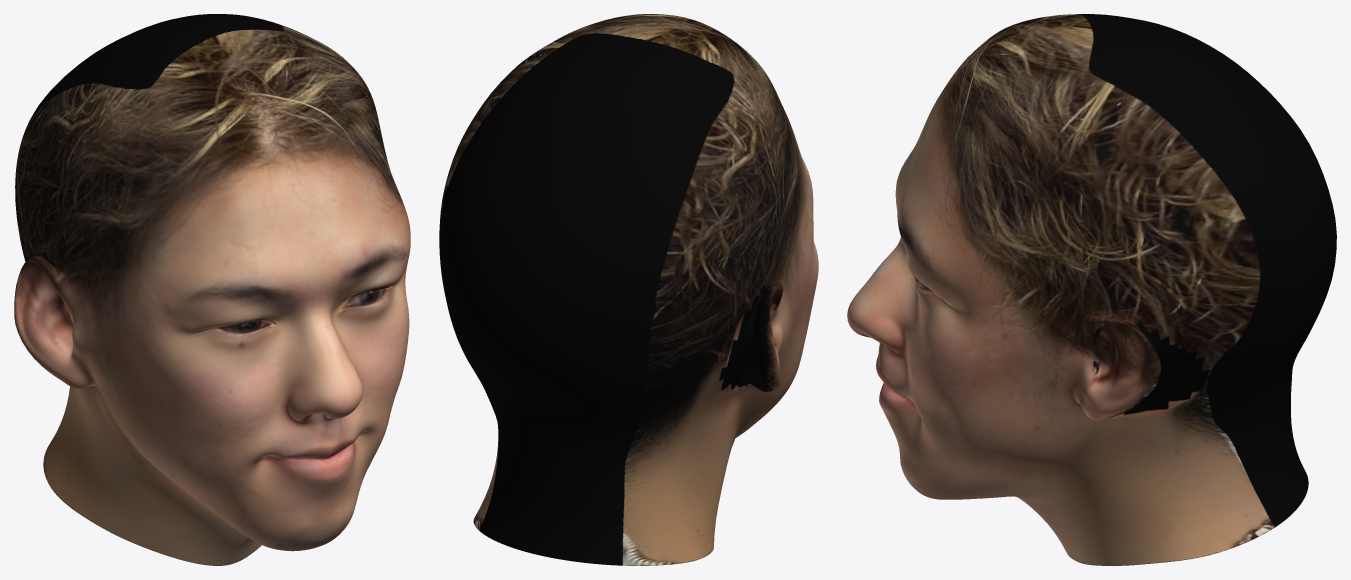
3 views of the same model, side by side, from view 1: azimuth 30°, elevation 25°; view 2: azimuth 150°, elevation 25°; view 3: azimuth 270°, elevation 25° (orthographic). The views are drawn at different scales.
Visible parts, largest first — view 1: FaceBuilderHead; view 2: FaceBuilderHead; view 3: FaceBuilderHead.
Part boxes in pixels (x1,y1,x2,y2): FaceBuilderHead: [14, 14, 410, 565]; FaceBuilderHead: [439, 14, 818, 565]; FaceBuilderHead: [847, 14, 1336, 565].
Size of the model in its own units: 1.51 by 2.17 by 1.85.
1 material, 1 textured.
